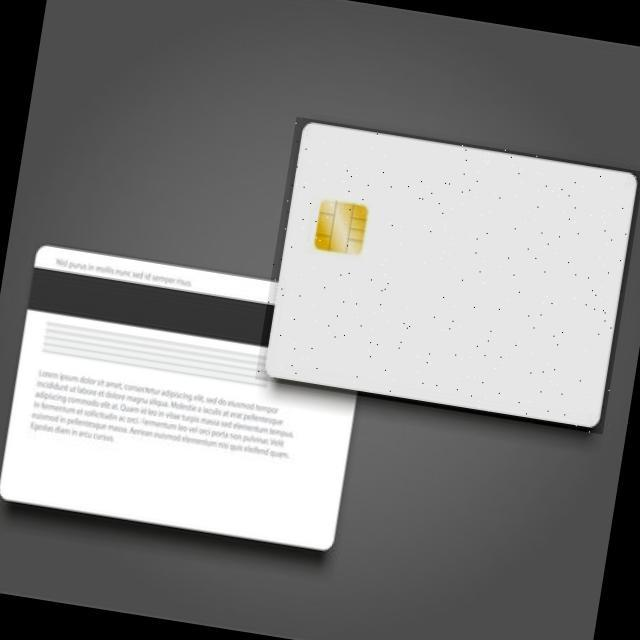payment_card: (263, 115, 638, 431), (0, 243, 358, 552)
